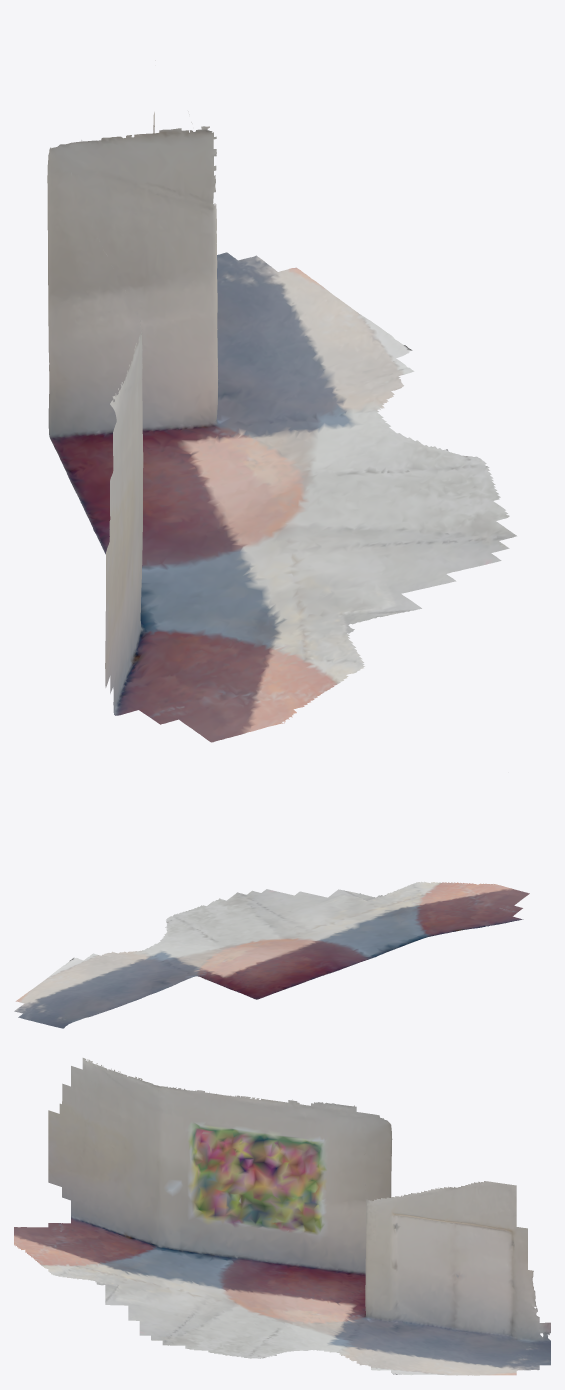
File: lost-in-my-a.glb
The picture shows the model from 3 angles, top to bottom: view 1: azimuth 30°, elevation 25°; view 2: azimuth 150°, elevation 25°; view 3: azimuth 270°, elevation 25°; orthographic projection. The views are drawn at different scales.
Size of the model in its own units: 6.8 by 3.3 by 9.4.
